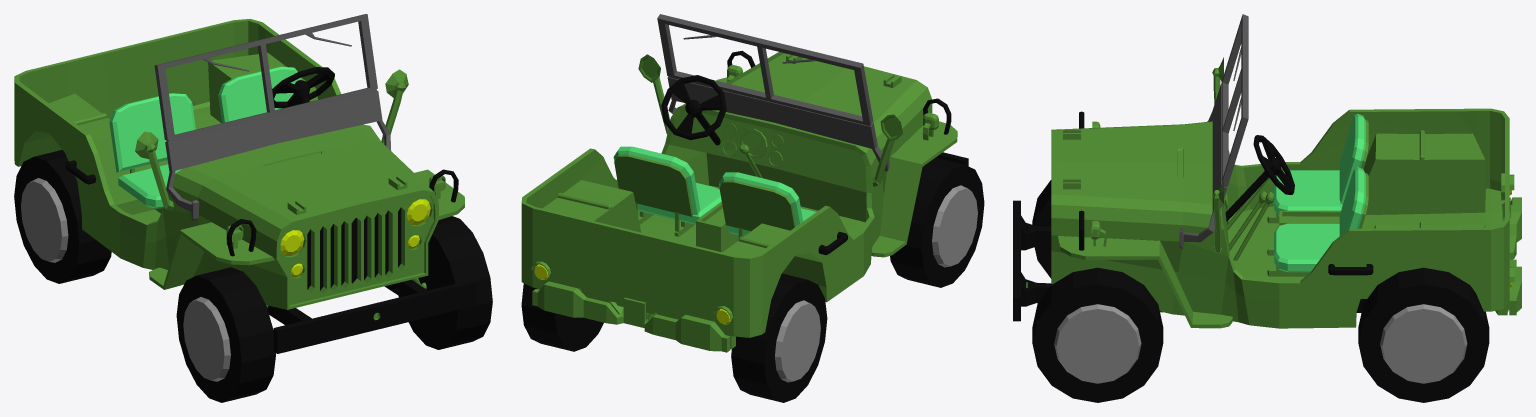
Rendered from Jeep.fbx.
3 views of the same model, side by side, from view 1: azimuth 30°, elevation 25°; view 2: azimuth 150°, elevation 25°; view 3: azimuth 270°, elevation 25° (orthographic). The views are drawn at different scales.
Parts seen in each view (by area): view 1: Jeep, Ventana, Cylinder.001, Cylinder.003, Cylinder; view 2: Jeep, Ventana, Cylinder.001, Cylinder.003, Cylinder.002; view 3: Jeep, Cylinder, Cylinder.002, Ventana, Cylinder.001.
Part boxes in pixels (bbox=[...]): Jeep: bbox=[14, 19, 476, 353]; Ventana: bbox=[154, 14, 391, 220]; Cylinder.001: bbox=[176, 267, 275, 402]; Cylinder.003: bbox=[14, 150, 111, 283]; Cylinder: bbox=[398, 216, 492, 349]; Jeep: bbox=[521, 50, 968, 352]; Ventana: bbox=[657, 14, 889, 171]; Cylinder.001: bbox=[890, 157, 984, 287]; Cylinder.003: bbox=[731, 273, 827, 402]; Cylinder.002: bbox=[521, 283, 603, 351]; Jeep: bbox=[1013, 57, 1521, 328]; Cylinder: bbox=[1032, 267, 1163, 402]; Cylinder.002: bbox=[1358, 267, 1489, 402]; Ventana: bbox=[1179, 14, 1248, 249]; Cylinder.001: bbox=[1032, 180, 1051, 278].
Bounding box in the file's own units: 158 × 253 × 152.
